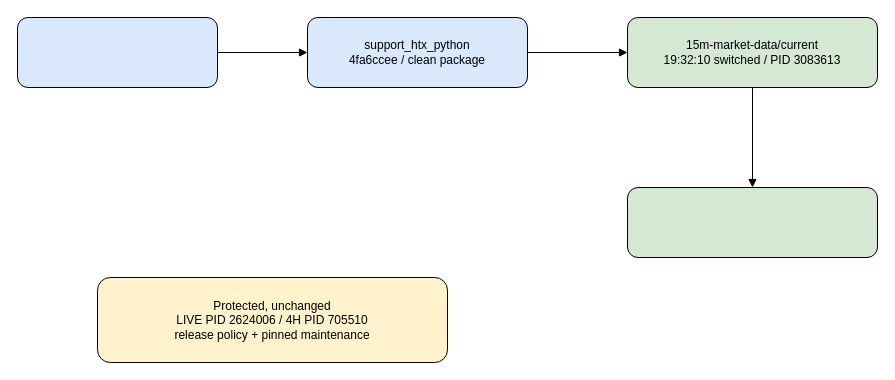
The diagram is 895 pixels wide and 380 high, and some of its shapes have lost their labels. Each missing label, with the box of its shape:
792 continuity + mdqueue-b 1387 tests PASS: (16, 16, 218, 88)
COS archive timer new data upload + GET/hash check: (626, 186, 878, 258)
